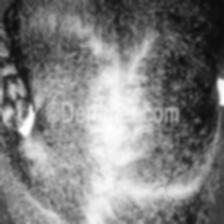Toxin: (95, 74, 137, 156)
